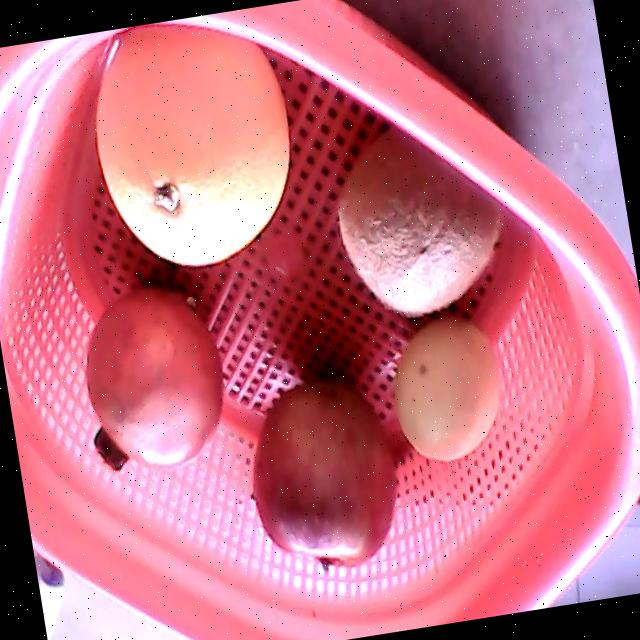apple: (251, 379, 396, 573)
kiwi: (337, 126, 501, 313)
lemon: (393, 314, 499, 460)
orange: (94, 21, 288, 265)
pomegranate: (81, 284, 222, 471)
